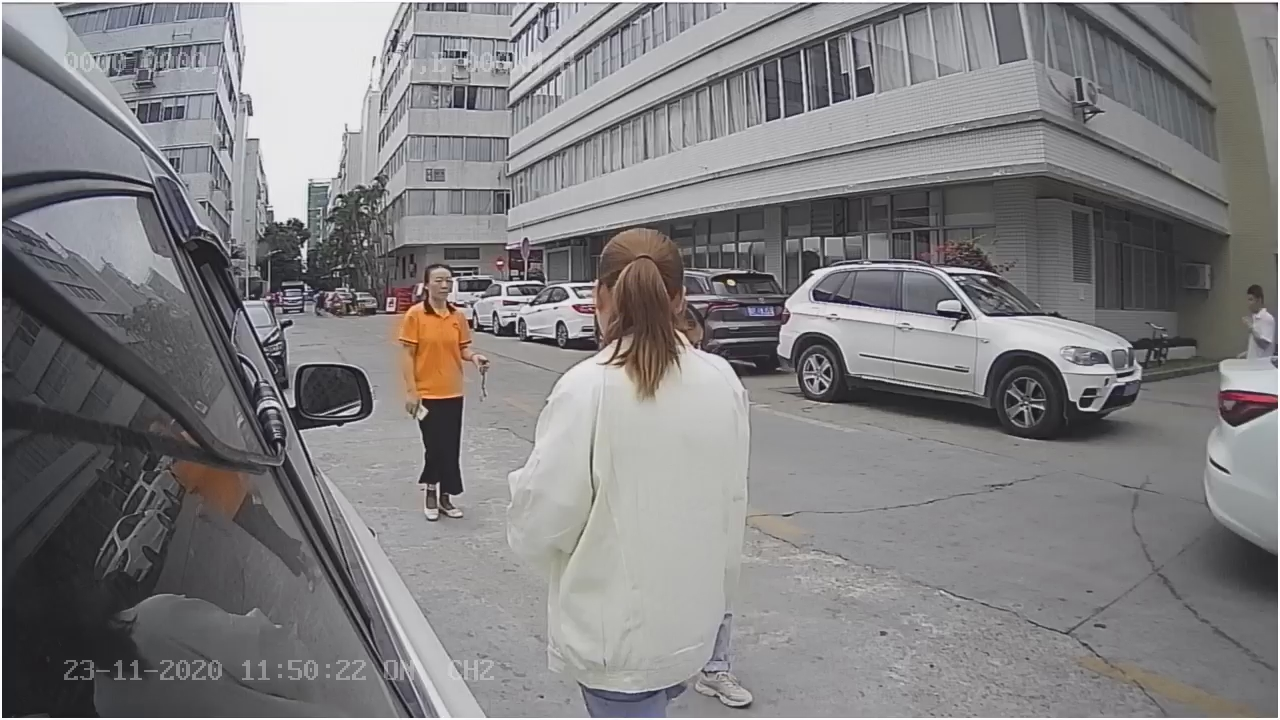person: (503, 220, 765, 546), (399, 257, 476, 521)
